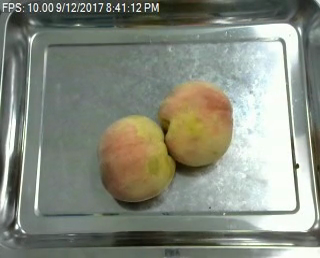Peach: (96, 114, 175, 204), (158, 80, 233, 168)
